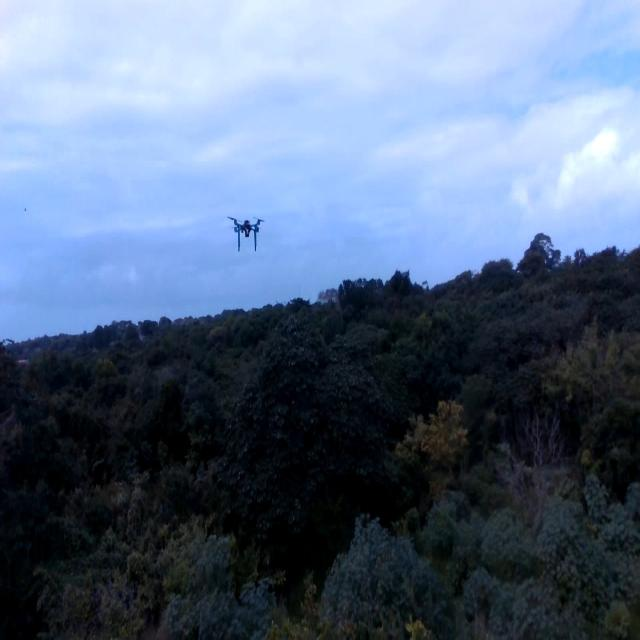-uav-: (224, 208, 278, 270)
